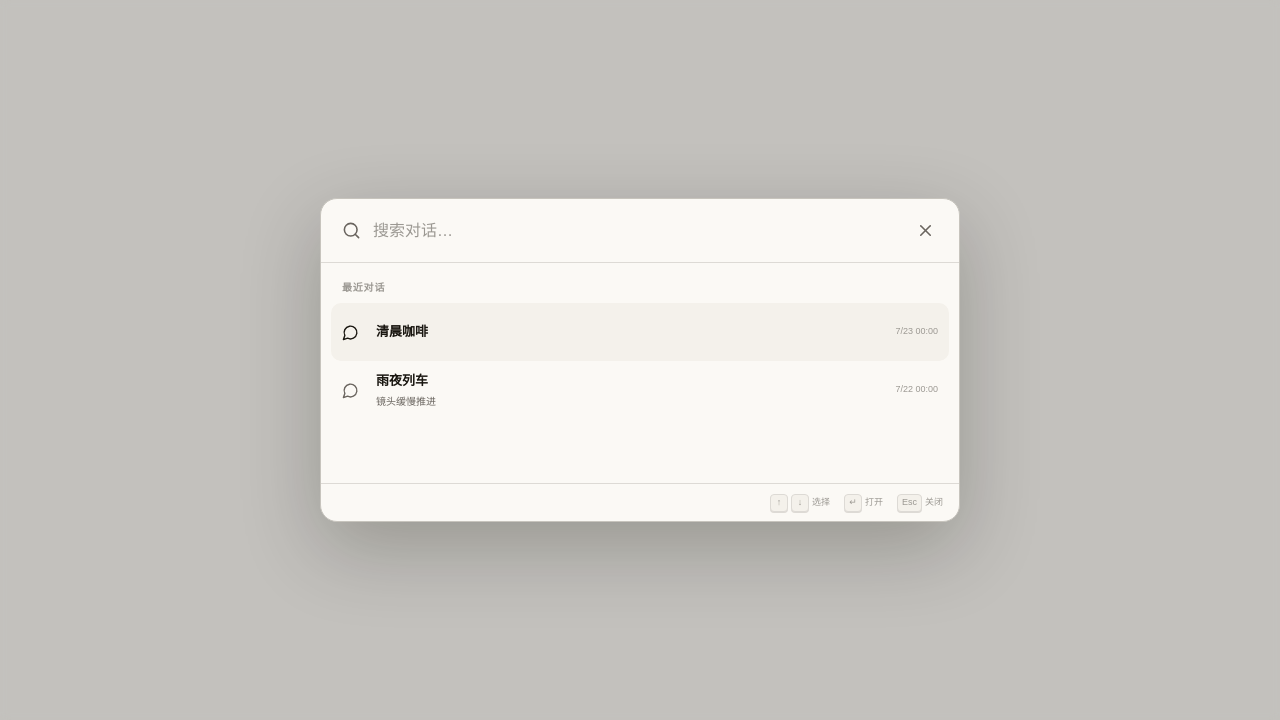
Test case: ConversationSearch › searches message content
Step 1. Type "缓慢推进" into the search field labelled "搜索对话" → point(635, 230), box [373,199,897,262]
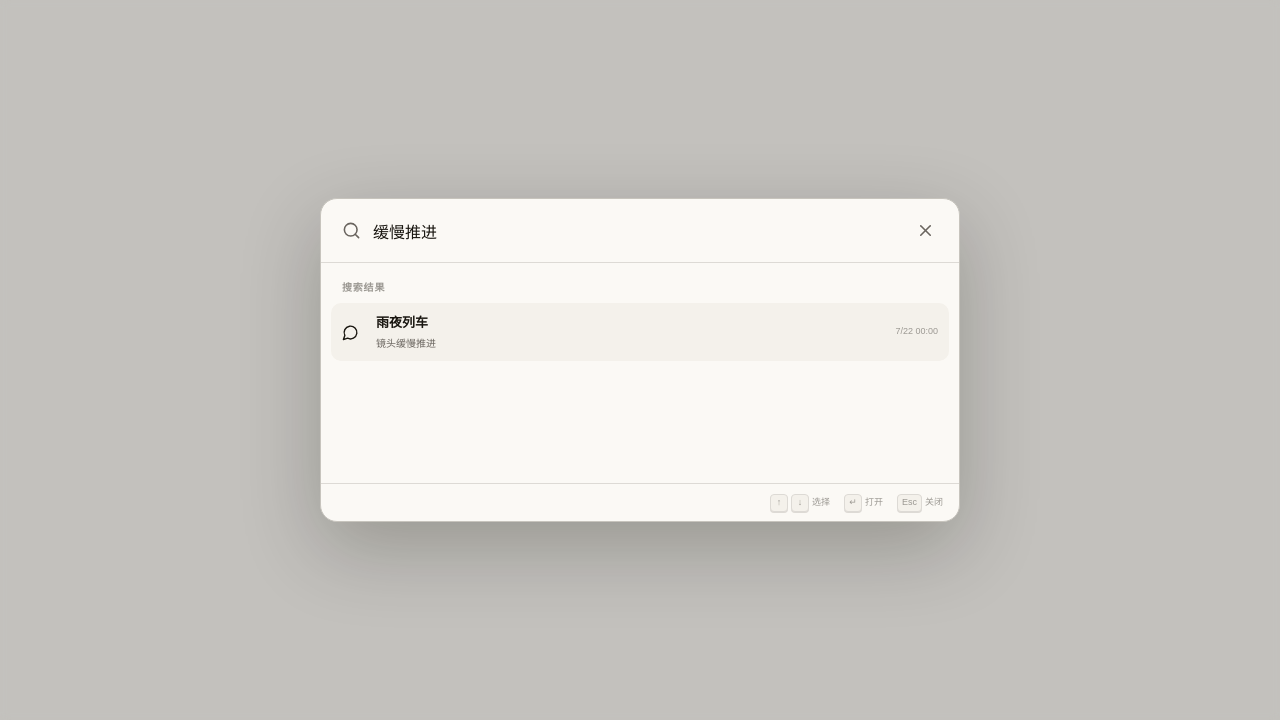
Check: the text "雨夜列车" is shown, box [376,315,428,330]
Check: the button "清晨咖啡" is gone
